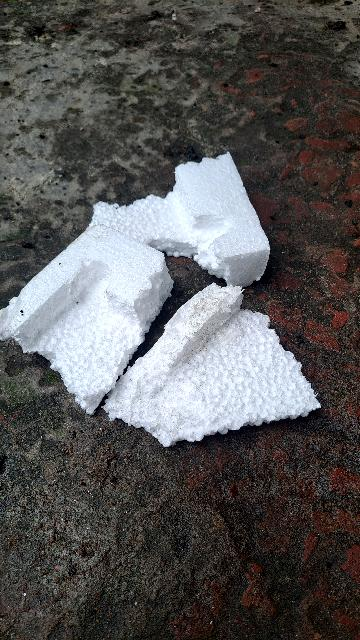cocksheet: (0, 147, 338, 467)
